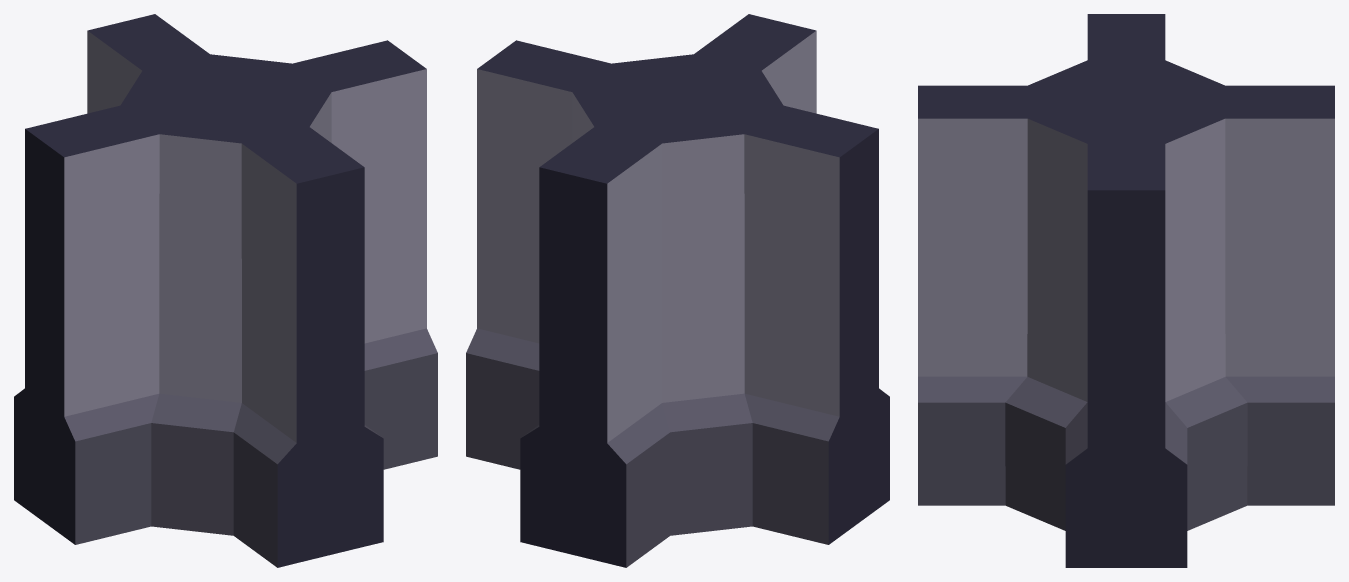
The model's file is WallCross.fbx.
The picture shows the model from 3 angles, left to right: view 1: azimuth 30°, elevation 25°; view 2: azimuth 150°, elevation 25°; view 3: azimuth 270°, elevation 25°; orthographic projection.
Parts seen in each view (by area): view 1: WallCross; view 2: WallCross; view 3: WallCross.
Part boxes in pixels (x1=…): WallCross: x1=14, y1=14, x2=437, y2=567; WallCross: x1=466, y1=14, x2=889, y2=567; WallCross: x1=918, y1=14, x2=1334, y2=567.
Bounding box in the file's own units: 200 × 200 × 200.
